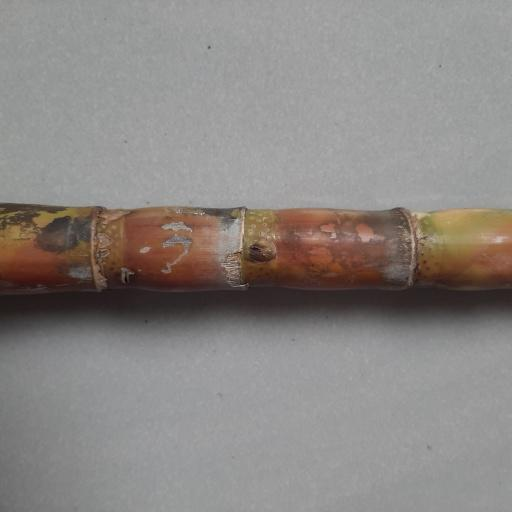Bud: (247, 238, 277, 263)
